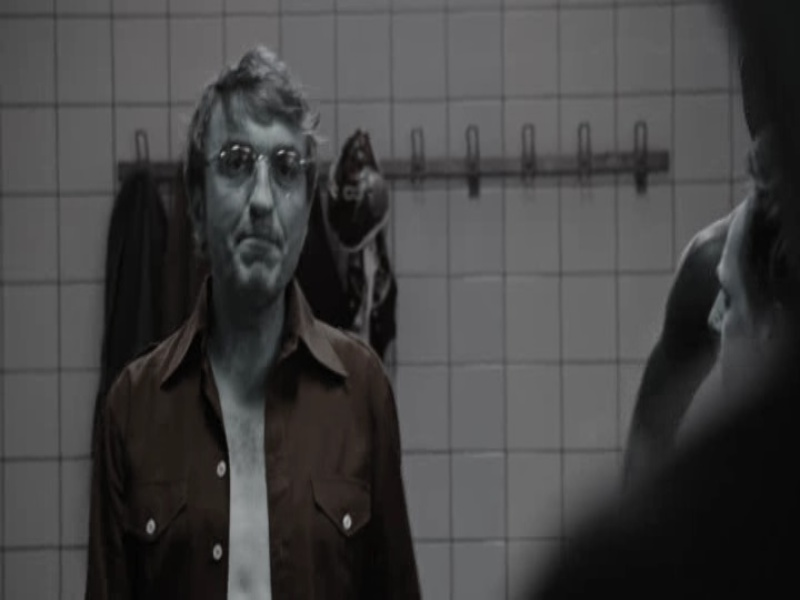TsisyArotava: (176, 58, 336, 319)
